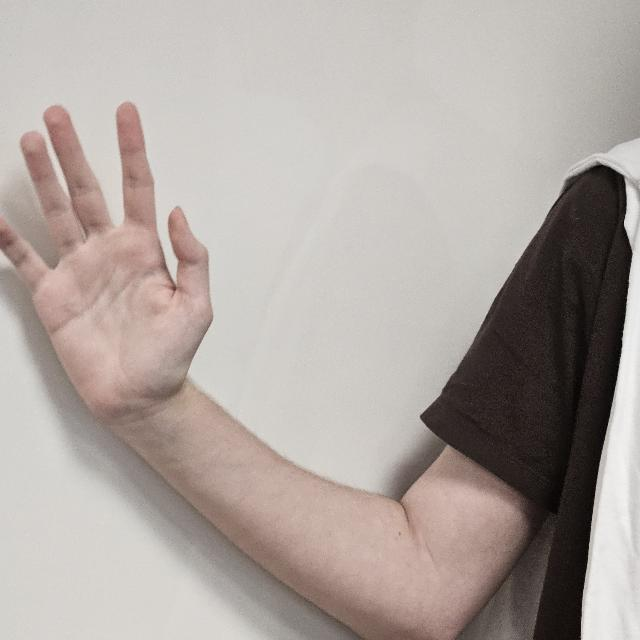X: (2, 92, 212, 434)
